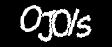0: (51, 8, 71, 37), (20, 5, 42, 31)
J: (38, 9, 58, 41)
l: (67, 8, 79, 35)
s: (76, 15, 91, 37)
